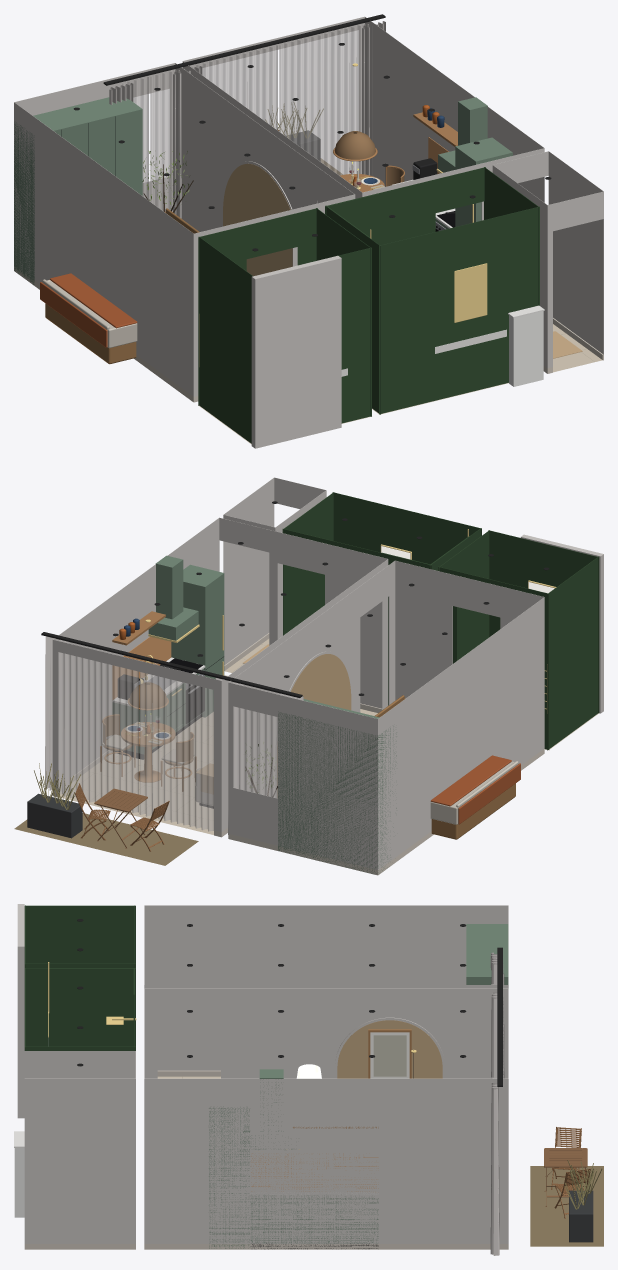
Rendered from unit-1.A-riviera.glb.
The picture shows the model from 3 angles, top to bottom: view 1: azimuth 30°, elevation 25°; view 2: azimuth 150°, elevation 25°; view 3: azimuth 270°, elevation 25°; orthographic projection. The views are drawn at different scales.
Parts seen in each view (by area): view 1: int-wall, int-bathWall, int-sheer, int-joineryTall, int-feature, int-curtain, int-bedThrow, int-whiteGloss, int-metal, int-matteBlack, int-joinery, int-headboard (+7 smaller); view 2: int-wall, int-bathWall, int-sheer, int-joineryTall, int-floor, int-joinery, int-curtain, int-deck, int-bedThrow, int-feature, int-skirting, int-outdoor (+14 smaller); view 3: int-wall, int-bathWall, int-showerWall, int-deck, int-joineryTall, int-skirting, int-feature, int-joinery, int-curtain, int-art:7:1, int-outdoor, int-matteBlack (+8 smaller).
Part boxes in pixels (box(x1,y1,x2,y2)): int-wall: box(14, 16, 603, 448); int-bathWall: box(198, 167, 539, 443); int-sheer: box(122, 23, 365, 211); int-joineryTall: box(14, 97, 512, 284); int-feature: box(223, 163, 292, 276); int-curtain: box(109, 21, 385, 218); int-bedThrow: box(40, 273, 137, 347); int-whiteGloss: box(509, 311, 543, 386); int-metal: box(199, 63, 487, 366); int-matteBlack: box(103, 14, 455, 214); int-joinery: box(435, 97, 487, 229); int-headboard: box(45, 208, 199, 364); int-wall: box(52, 477, 603, 869); int-bathWall: box(282, 492, 599, 750); int-sheer: box(58, 652, 277, 831); int-joineryTall: box(171, 564, 396, 874); int-floor: box(60, 675, 377, 834); int-joinery: box(112, 555, 203, 754); int-curtain: box(45, 636, 303, 834); int-deck: box(14, 813, 198, 865); int-bedThrow: box(430, 755, 520, 824); int-feature: box(277, 654, 351, 797); int-skirting: box(52, 633, 544, 875); int-outdoor: box(27, 793, 82, 838); int-wall: box(17, 904, 508, 1243); int-bathWall: box(24, 905, 135, 1050); int-showerWall: box(48, 968, 135, 1046); int-deck: box(530, 1166, 603, 1246); int-joineryTall: box(209, 924, 508, 1248); int-skirting: box(24, 1070, 508, 1249); int-feature: box(337, 1020, 442, 1078); int-joinery: box(244, 1069, 378, 1243); int-curtain: box(490, 952, 499, 1255); int-art:7:1: box(373, 1035, 406, 1076); int-outdoor: box(569, 1190, 593, 1242); int-matteBlack: box(251, 947, 502, 1249).
Bounding box in the file's own units: 6.62 × 2.8 × 8.41.
